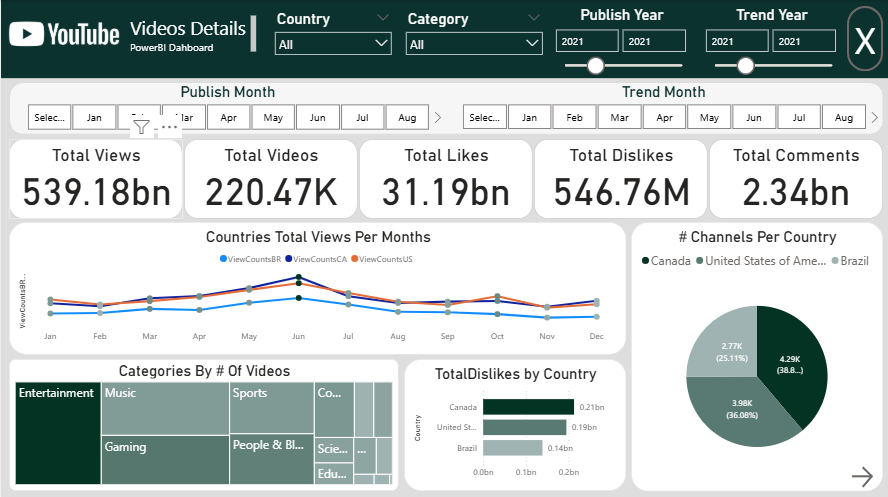

Layout of this report page (visuals, bound fields, positions):
{"tool":"powerbi","page":{"name":"Page 1","canvas":[1280,720],"ordinal":0},"visuals":[{"type":"shape","box":[0,0,1280,112.5],"z":0},{"type":"textbox","box":[181.4,16.8,191.5,63.8],"z":1000},{"type":"image","box":[0,8.4,181.4,80.6],"z":2000},{"type":"slicer","fields":{"Values":["Country.Country"]},"box":[384.7,10.1,188.1,79],"z":3000},{"type":"slicer","fields":{"Values":["Category.Category"]},"box":[572.8,10.1,216.7,79],"z":4000},{"type":"slicer","title":"Publish Year","fields":{"Values":["PublishDateDim.Year"]},"box":[786,8,216,104],"z":5000},{"type":"slicer","title":"Trend Year","fields":{"Values":["DateDim.Year"]},"box":[1002,8,216,104],"z":6000},{"type":"shape","box":[13.3,120,1256.7,73.3],"z":7000},{"type":"slicer","title":"Publish Month","fields":{"Values":["PublishDateDim.MonthName"]},"box":[12.5,120.1,627.5,73.5],"z":8000},{"type":"slicer","title":"Trend Month","fields":{"Values":["DateDim.MonthNameTrend"]},"box":[640,120,630,73.3],"z":9000},{"type":"card","title":"Total Views","fields":{"Values":["DaxMeasures.TotalViewCounts"]},"box":[12,200,250,115],"z":10000},{"type":"card","title":"Total Videos","fields":{"Values":["DaxMeasures.TotalVideos#"]},"box":[264,200,250,115],"z":11000},{"type":"card","title":"Total Dislikes","fields":{"Values":["DaxMeasures.TotalDislikes"]},"box":[768,200,250,115],"z":12000},{"type":"card","title":"Total Likes","fields":{"Values":["DaxMeasures.TotalLikes"]},"box":[516,200,250,115],"z":13000},{"type":"card","title":"Total Comments","fields":{"Values":["DaxMeasures.TotalComments"]},"box":[1020,200,250,115],"z":14000},{"type":"actionButton","box":[1218,8,52,94],"z":15000},{"type":"treemap","title":"Categories By # Of Videos","fields":{"Group":["Category.Category"],"Values":["CountNonNull(VideosFact.CategoryID)"]},"box":[11.8,517.4,561,189.8],"z":16000},{"type":"pieChart","title":"# Channels Per Country","fields":{"Category":["Country.Country"],"Y":["Count(VideosFact.ChannelID)"]},"box":[907.1,319.2,362.8,388],"z":17000},{"type":"lineChart","title":"Countries Total Views Per Months","fields":{"Category":["PublishDateDim.MonthName"],"Y":["DaxMeasures.ViewCountsBR","DaxMeasures.ViewCountsCA","DaxMeasures.ViewCountsUS"]},"box":[11.8,319.2,889,191.5],"z":18000},{"type":"barChart","fields":{"Category":["Country.Country"],"Y":["DaxMeasures.TotalDislikes"]},"box":[580.3,517,319.7,190.1],"z":19000},{"type":"actionButton","box":[1219.7,666.7,50.4,40.3],"z":20000}]}

Visuals, with their boxes in screenshot pixels (x1, y1, x2, y2), scaled from the page's 1280x720 canvas onto the 888x497 screenshot:
shape: 0 0 887 78
textbox: 126 12 259 56
image: 0 6 126 61
slicer - Country.Country: 267 7 397 62
slicer - Category.Category: 397 7 548 62
"Publish Year" slicer: 545 6 695 77
"Trend Year" slicer: 695 6 845 77
shape: 9 83 881 133
"Publish Month" slicer: 9 83 444 134
"Trend Month" slicer: 444 83 881 133
"Total Views" card: 8 138 182 217
"Total Videos" card: 183 138 357 217
"Total Dislikes" card: 533 138 706 217
"Total Likes" card: 358 138 531 217
"Total Comments" card: 708 138 881 217
actionButton: 845 6 881 70
"Categories By # Of Videos" treemap: 8 357 397 488
"# Channels Per Country" pieChart: 629 220 881 488
"Countries Total Views Per Months" lineChart: 8 220 625 353
barChart - Country.Country x DaxMeasures.TotalDislikes: 403 357 624 488
actionButton: 846 460 881 488
